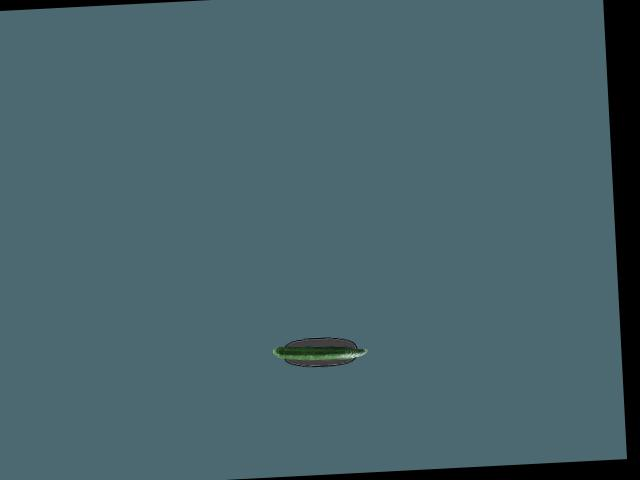cucumber: (272, 341, 368, 362)
